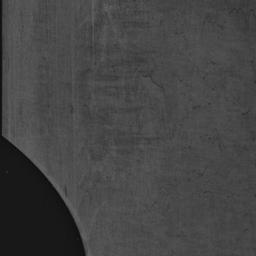Crescent gap: (0, 138, 85, 256)
